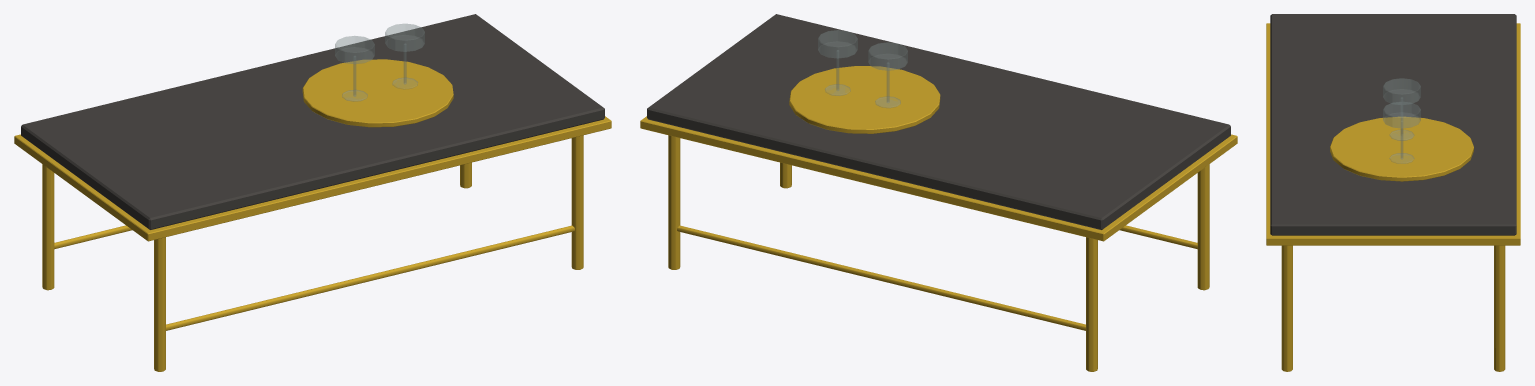
File: prop_ah_vip_coffee_table.glb
3 views of the same model, side by side, from view 1: azimuth 30°, elevation 25°; view 2: azimuth 150°, elevation 25°; view 3: azimuth 270°, elevation 25° (orthographic). The views are drawn at different scales.
Parts seen in each view (by area): view 1: Body; view 2: Body; view 3: Body.
Part boxes in pixels (bbox=[...]): Body: bbox=[14, 14, 611, 371]; Body: bbox=[640, 14, 1237, 371]; Body: bbox=[1266, 14, 1520, 371].
Bounding box in the file's own units: 1.2 × 0.542 × 0.6.
